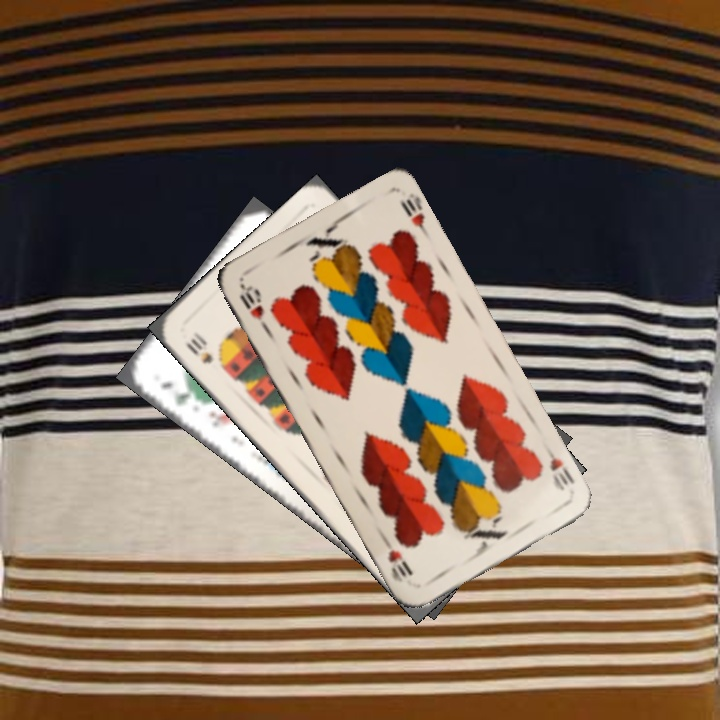GK: (157, 377, 194, 408)
H10: (235, 280, 273, 335), (540, 441, 577, 493)
S10: (182, 328, 216, 367)
